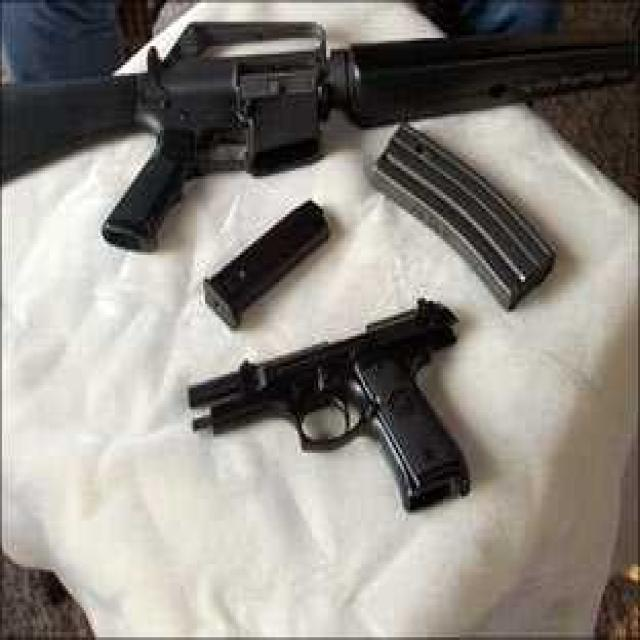Rifle: (5, 5, 625, 257)
